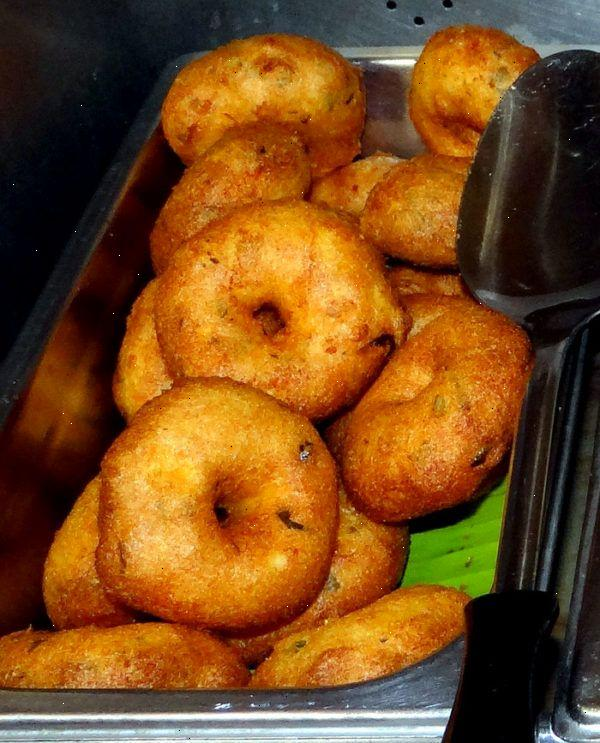medu vada: (14, 24, 536, 690)
